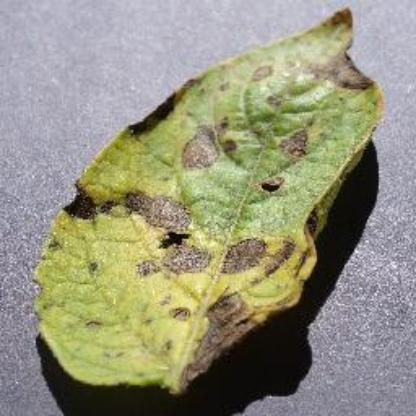Early-Blight: (16, 11, 408, 409)
